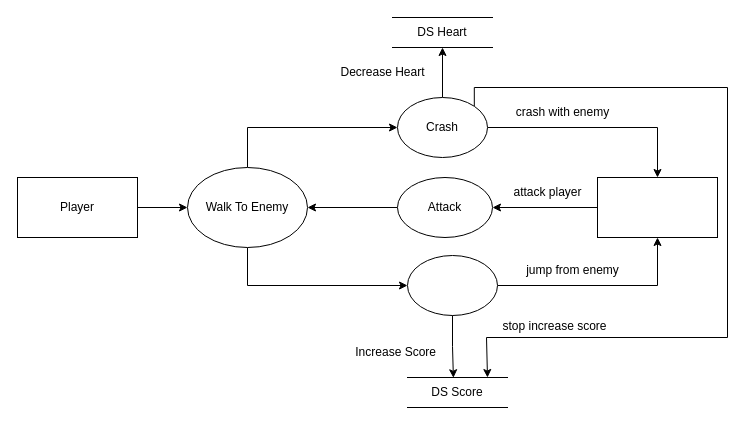
Some shapes in this 753 by 425 pixel diagram are drawn without their labels. The centre of each missing label's shape, as x and y in pixels:
Enemy: the point at 657,207
Jump: the point at 452,285
